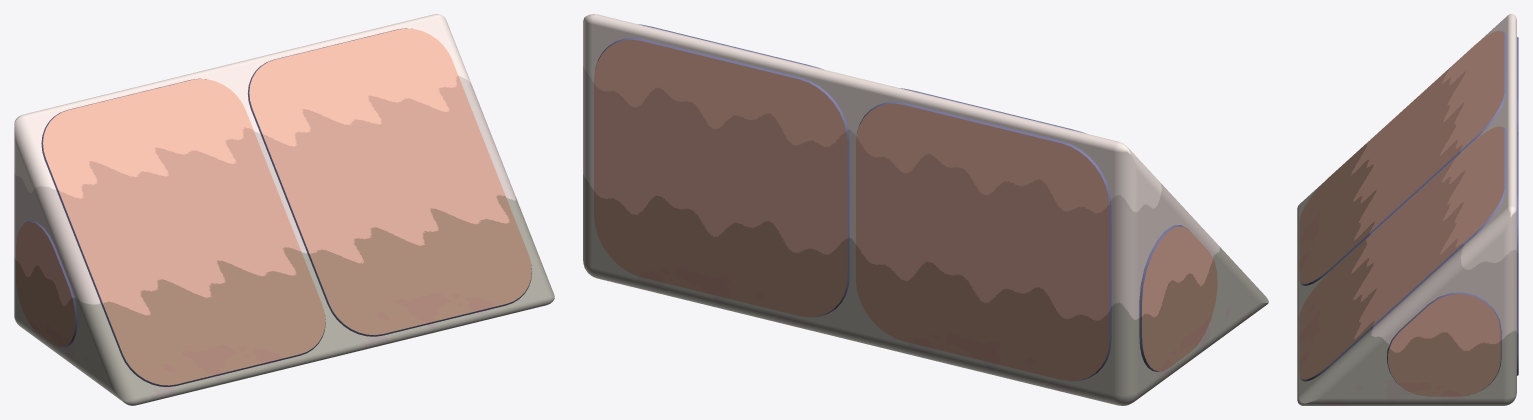
The model's file is R4B_WideWedge.glb.
3 views of the same model, side by side, from view 1: azimuth 30°, elevation 25°; view 2: azimuth 150°, elevation 25°; view 3: azimuth 270°, elevation 25° (orthographic). The views are drawn at different scales.
Visible parts, largest first — view 1: R4B_WideWedge; view 2: R4B_WideWedge; view 3: R4B_WideWedge.
Part boxes in pixels (left/top/right/bottom): R4B_WideWedge: left=14, top=14, right=554, bottom=405; R4B_WideWedge: left=583, top=14, right=1268, bottom=405; R4B_WideWedge: left=1297, top=14, right=1518, bottom=405.
Size of the model in its own units: 1.07 by 0.4928 by 0.4928.
3 materials, 3 textured.
